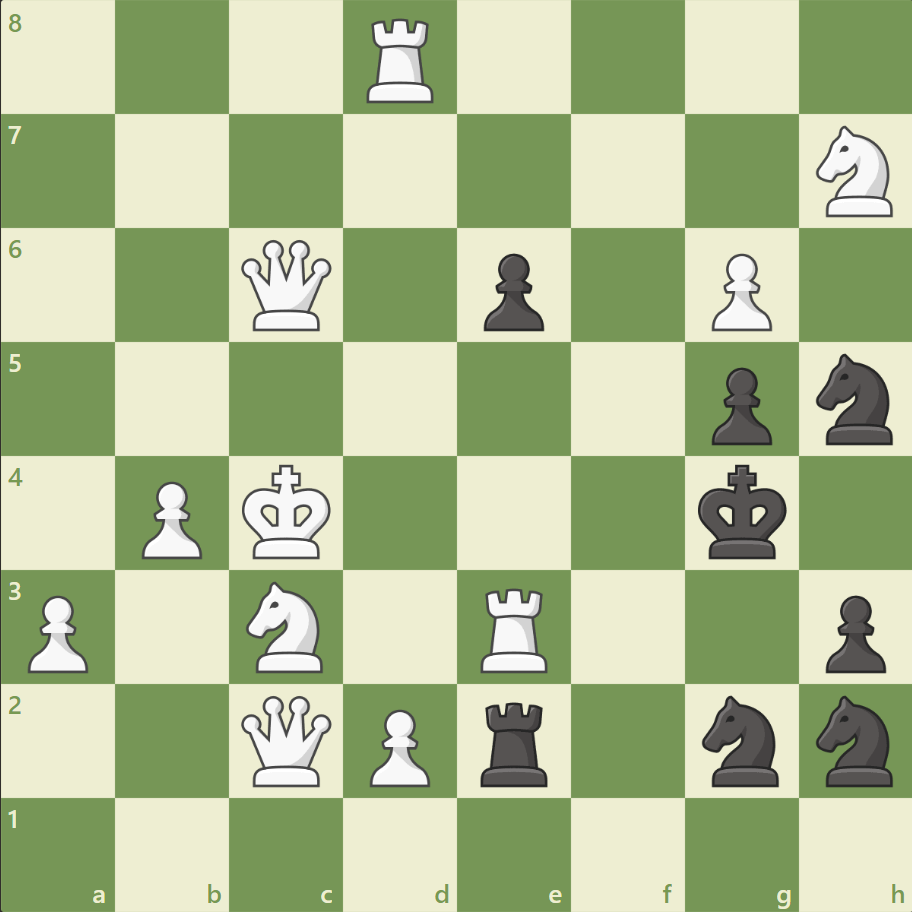K: (238, 458, 338, 566)
N: (806, 121, 903, 223), (238, 575, 335, 677)
P: (701, 246, 776, 337), (133, 473, 208, 564), (20, 586, 95, 677), (361, 700, 435, 791)
Q: (237, 236, 336, 335), (237, 690, 336, 789)
R: (473, 579, 556, 676), (360, 12, 442, 109)
k: (692, 458, 792, 566)
n: (692, 688, 789, 791), (806, 688, 903, 791), (806, 348, 903, 450)
p: (474, 246, 549, 337), (701, 359, 776, 450), (815, 586, 889, 677)
r: (473, 693, 556, 790)
